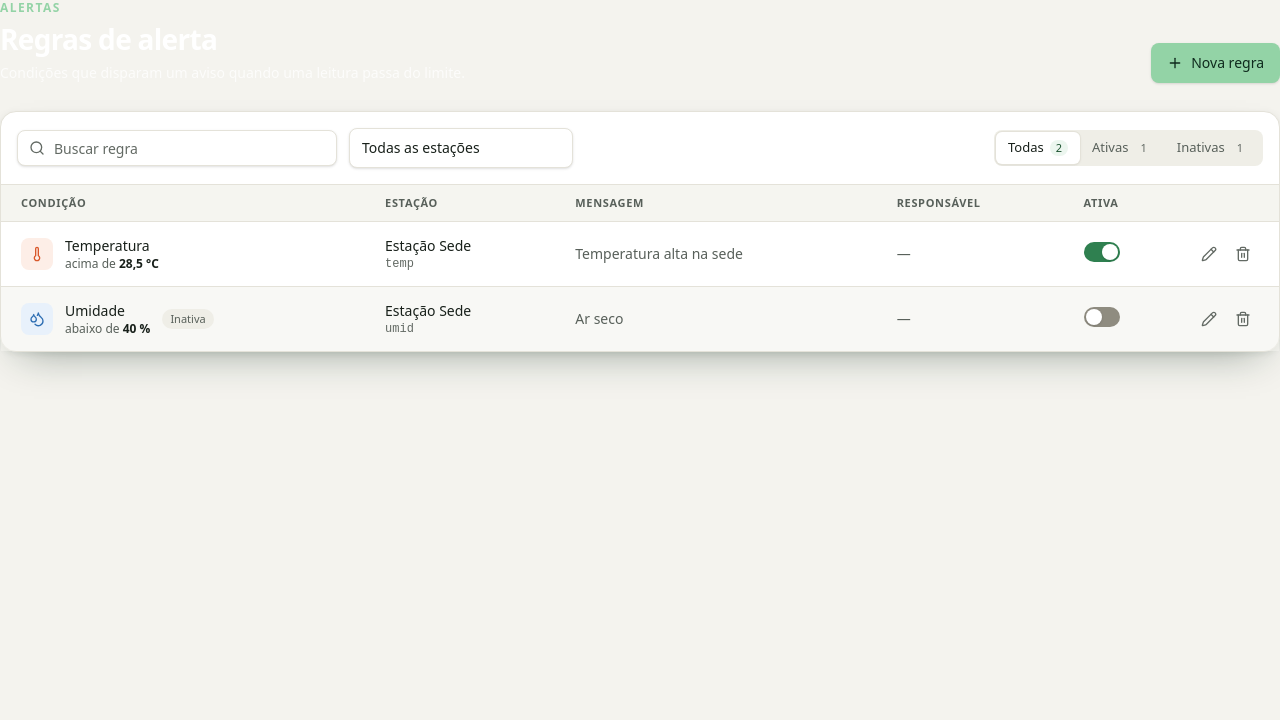
ações por permissão › permite regras ao gerente sem consultar a administração de usuários
This screenshot has width=1280, height=720.
Expected: the text "Temperatura alta na sede" is shown, [575, 244, 743, 263]
Click the button "Nova regra" at (1216, 63), box [1151, 43, 1279, 83]
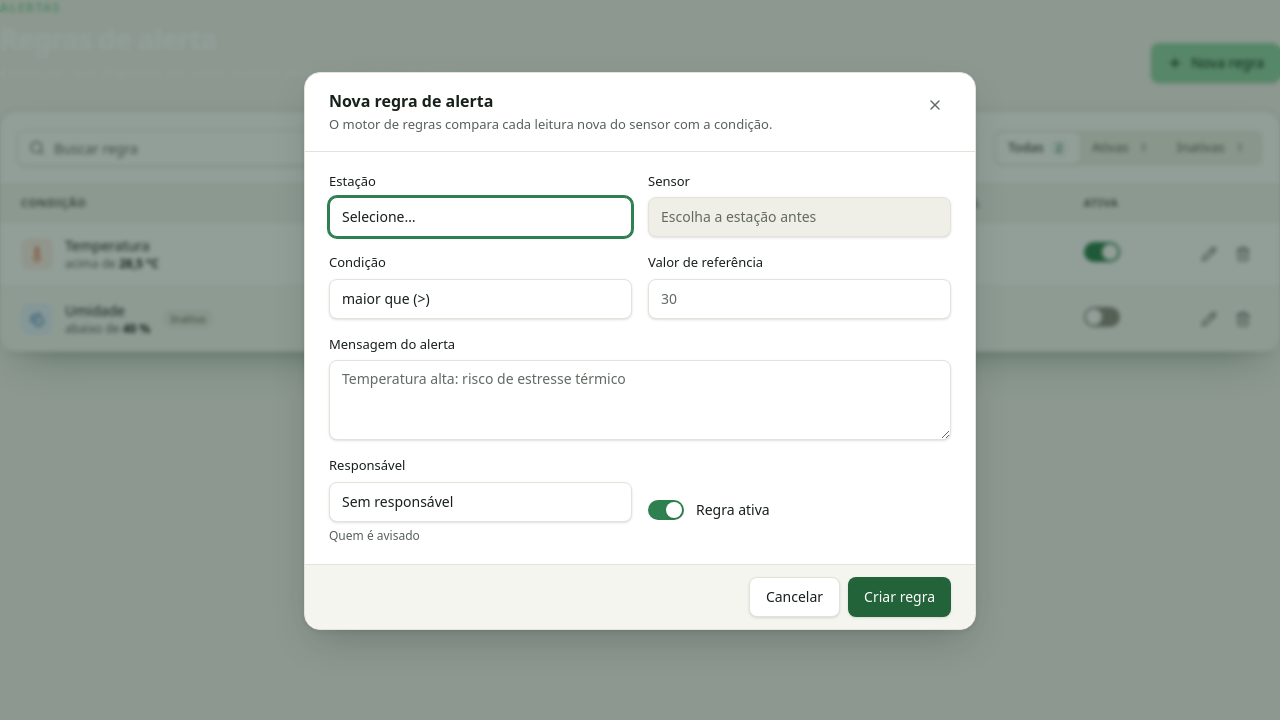
Expected: the dialog is shown, [304, 72, 976, 630]
